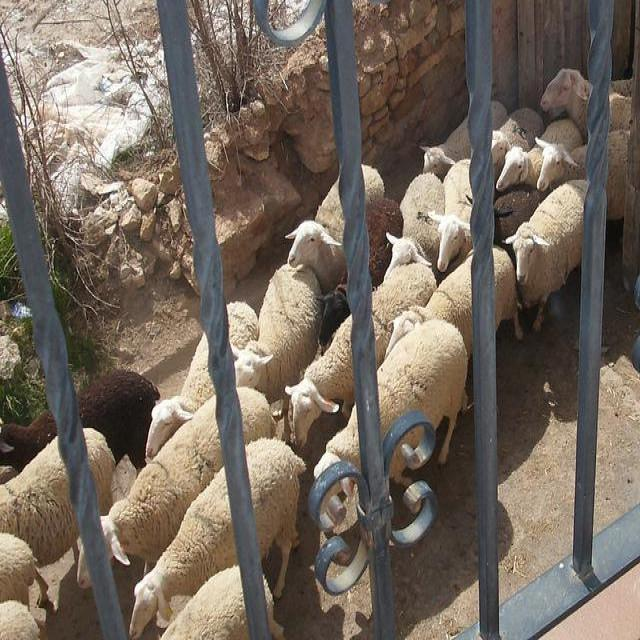Sheep: (1, 9, 639, 639), (77, 384, 275, 595), (128, 436, 309, 632), (316, 324, 466, 472), (281, 162, 385, 334), (229, 263, 326, 445), (0, 424, 113, 571), (385, 244, 523, 360), (286, 315, 392, 448), (503, 180, 586, 333), (535, 130, 631, 218), (494, 115, 587, 193), (372, 232, 437, 329), (425, 158, 474, 274)
